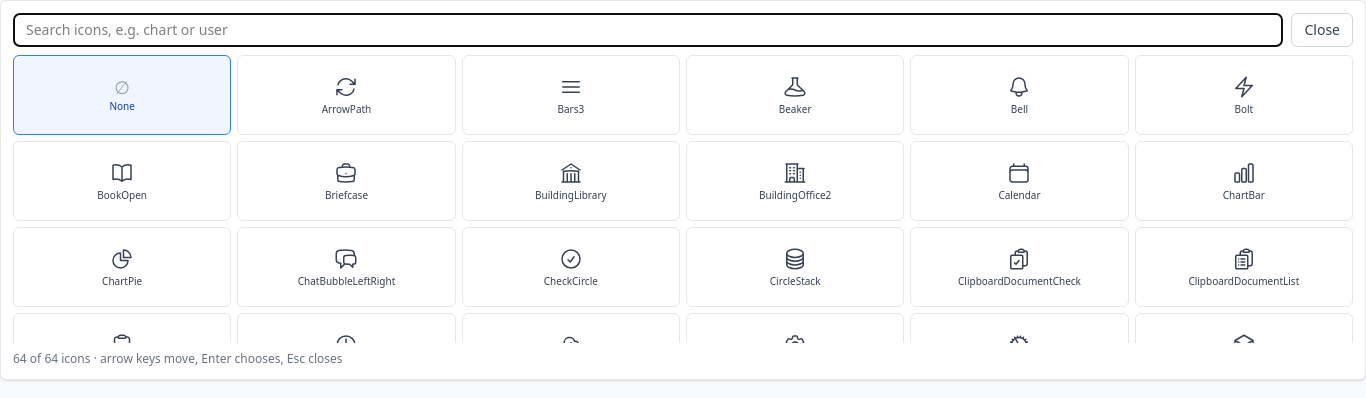
Test case: IconPicker › says so when nothing matches
The width and height of the screenshot is (1366, 398).
In the search field: (648, 30) x1=13 y1=13 x2=1284 y2=47, type "zzzz"
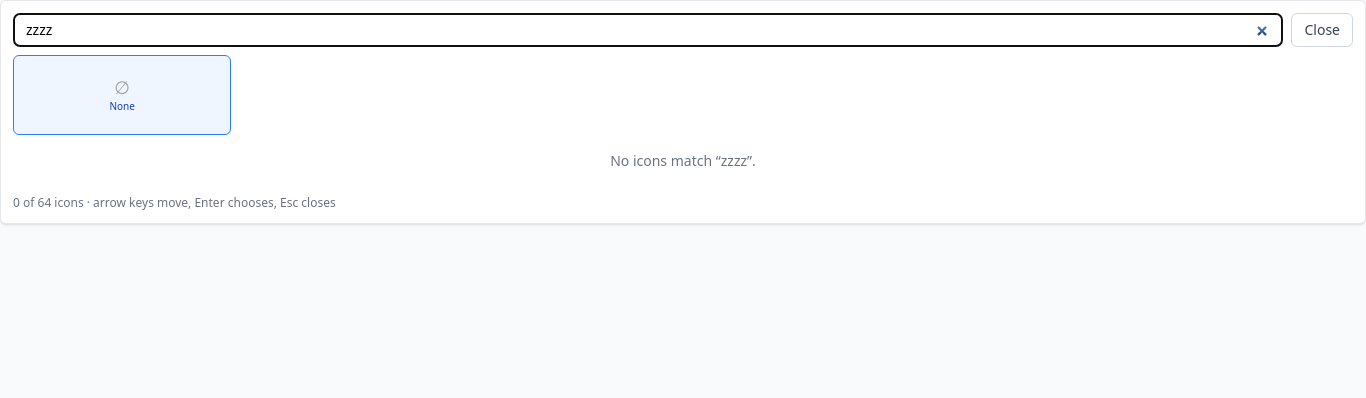
Now the text "No icons match “zzzz”." is shown, box x1=610 y1=151 x2=756 y2=170
